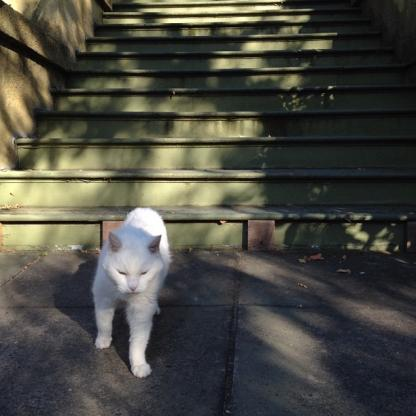Target: (87, 208, 171, 382)
